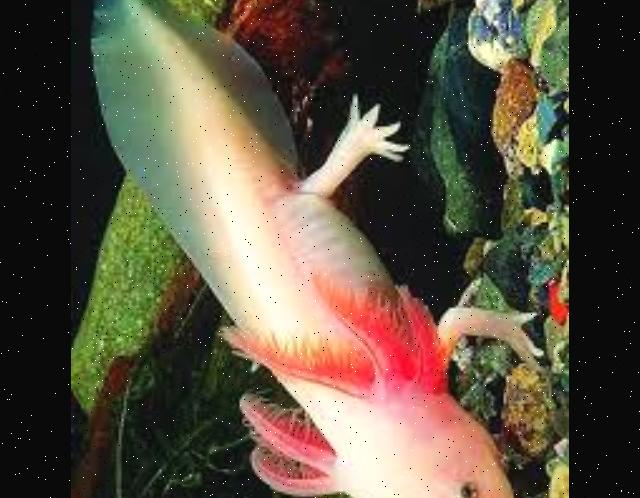Sirip Ekor: (78, 0, 308, 148)
